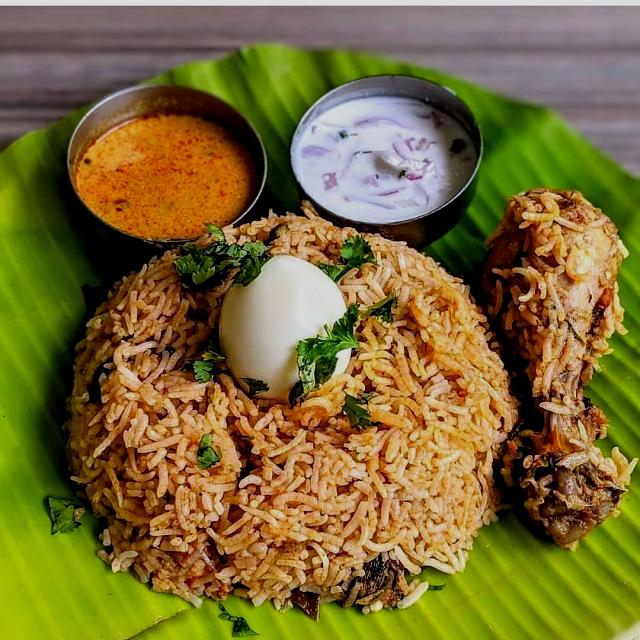biryani: (72, 237, 485, 568)
